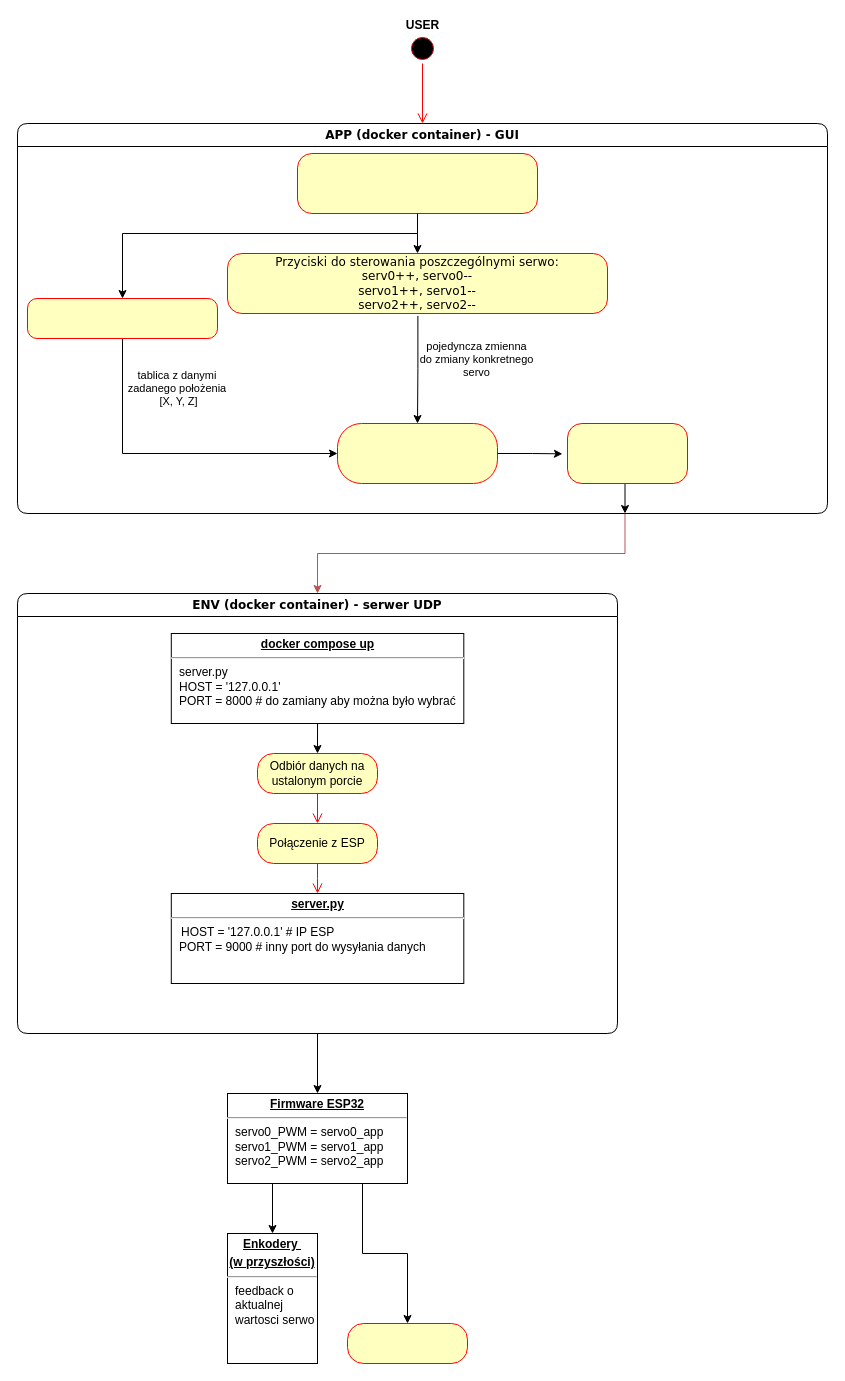
This 845x1381 diagram has some shape labels left out. Here are the shapes that lost their labels. From the top down, the centre of each, then its label:
the point at 417,183: python tkinter GUI python matplotlib - wizualizacja
the point at 122,318: W przyszłości zmiana położenia w osi (X, Y, Z)
the point at 417,453: Przekonwertowanie na zadaną wartość PWM do serwo
the point at 627,453: Wysyłanie danych do servera UDP
the point at 407,1343: Kod do sterowania serwo
